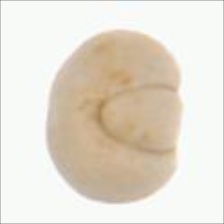L5: (96, 83, 182, 154), (41, 70, 67, 143)
L6: (44, 28, 183, 206)
